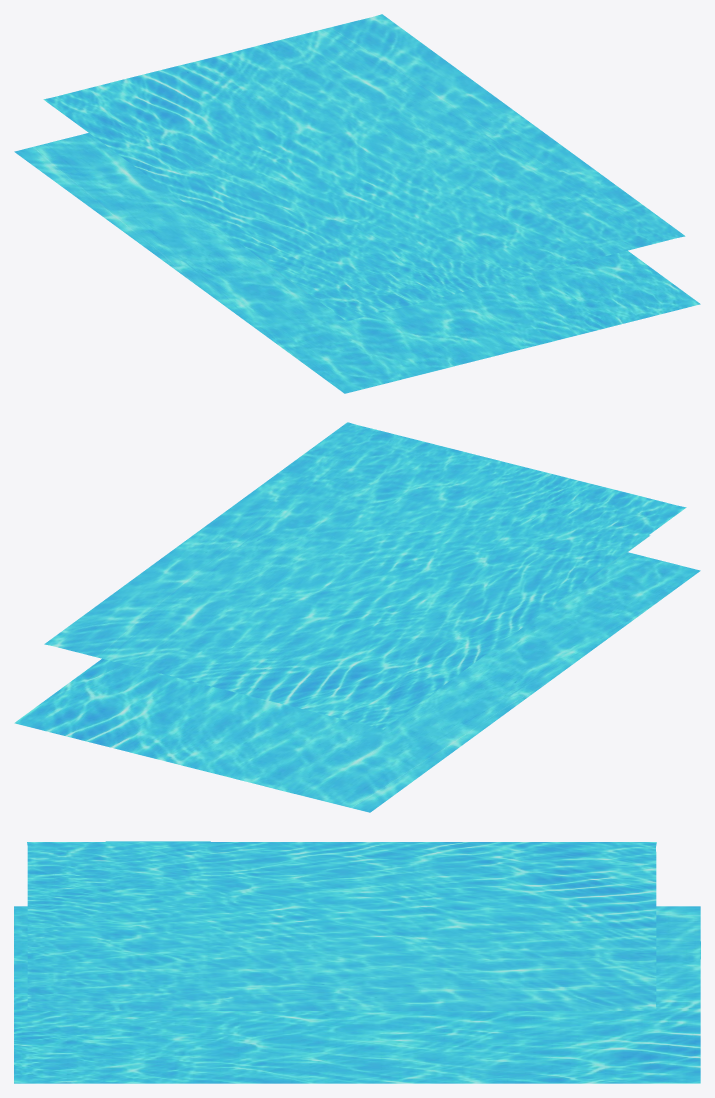
Rendered from pantallaPool.glb.
The picture shows the model from 3 angles, top to bottom: view 1: azimuth 30°, elevation 25°; view 2: azimuth 150°, elevation 25°; view 3: azimuth 270°, elevation 25°; orthographic projection. The views are drawn at different scales.
Parts seen in each view (by area): view 1: pantalla_celular_pool_agua; view 2: pantalla_celular_pool_agua; view 3: pantalla_celular_pool_agua.
Boxes of the visible parts, left/top/right/bottom form: pantalla_celular_pool_agua: left=14, top=14, right=700, bottom=393; pantalla_celular_pool_agua: left=14, top=422, right=700, bottom=812; pantalla_celular_pool_agua: left=14, top=841, right=700, bottom=1083.
Bounding box in the file's own units: 49.46 × 9.07 × 79.61.
Materials: 1 (1 with a texture image).
